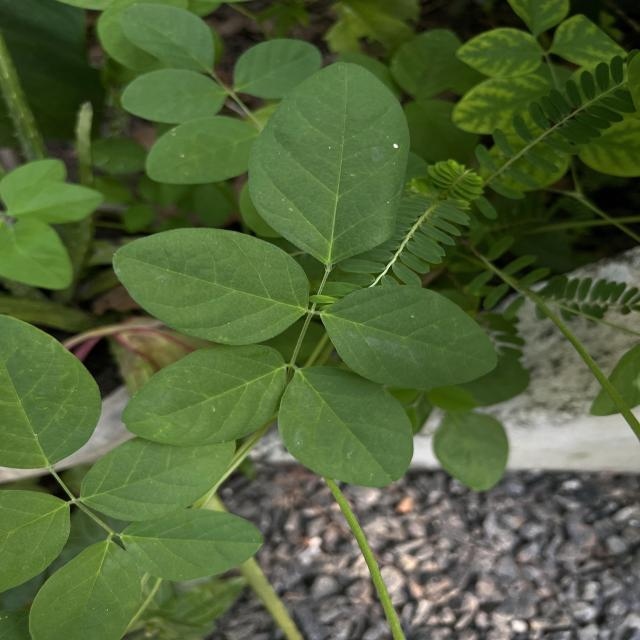Clitoria ternatea: (245, 58, 414, 266), (109, 225, 312, 348), (318, 282, 500, 389), (120, 342, 288, 449), (276, 362, 416, 490), (117, 506, 266, 582)
